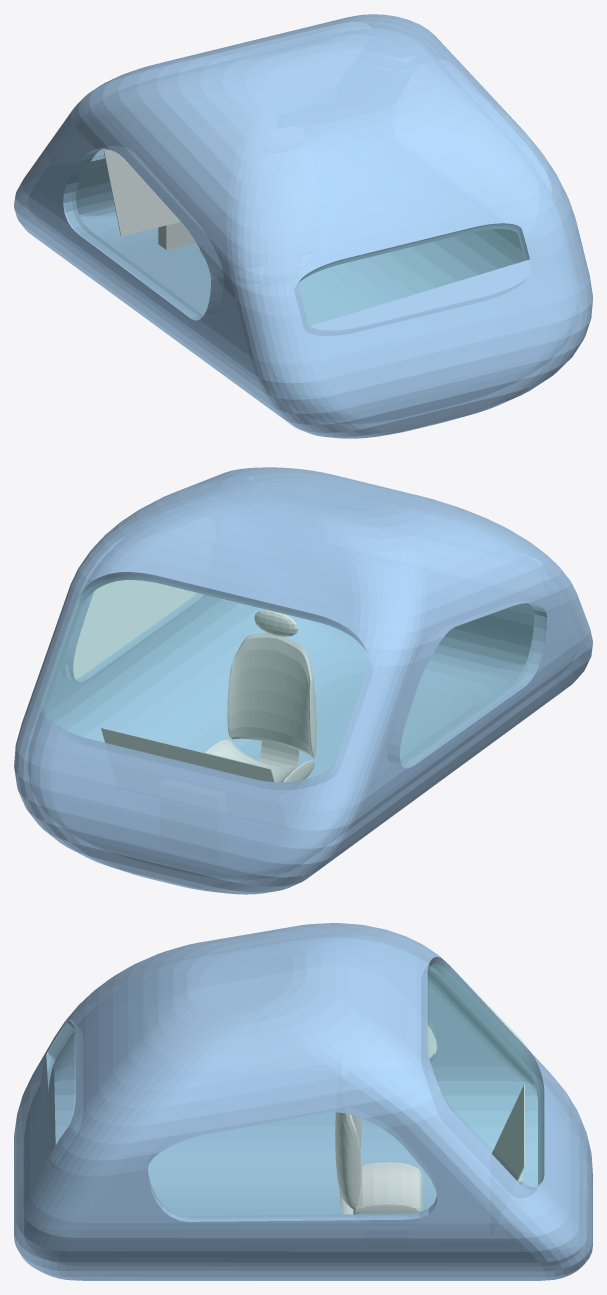
File: капсула7.fbx
The picture shows the model from 3 angles, top to bottom: view 1: azimuth 30°, elevation 25°; view 2: azimuth 150°, elevation 25°; view 3: azimuth 270°, elevation 25°; orthographic projection. The views are drawn at different scales.
Parts seen in each view (by area): view 1: Circle, Cube.004, Cube.007, Cube.003, Cube.002; view 2: Circle, Cube.006, Cube.004, Circle.002, Cube.005, Cube.003, Circle.001, Cube.001, Plane; view 3: Circle, Cube.005, Cube.006, Circle.001, Cube.007, Circle.002, Cube.003.
Boxes of the visible parts, box(x1,y1,x2,y2) form: Circle: box(14, 14, 592, 438); Cube.004: box(65, 149, 210, 319); Cube.007: box(298, 224, 528, 325); Cube.003: box(103, 149, 180, 236); Cube.002: box(158, 222, 195, 249); Circle: box(14, 467, 592, 894); Cube.006: box(40, 576, 368, 781); Cube.004: box(400, 603, 544, 767); Circle.002: box(227, 633, 316, 758); Cube.005: box(73, 580, 195, 678); Cube.003: box(101, 727, 274, 781); Circle.001: box(206, 739, 314, 782); Cube.001: box(254, 610, 297, 636); Plane: box(259, 741, 298, 767); Circle: box(14, 923, 592, 1280); Cube.005: box(148, 1112, 436, 1218); Cube.006: box(428, 961, 542, 1188); Circle.001: box(353, 1162, 422, 1214); Cube.007: box(47, 1021, 75, 1150); Circle.002: box(335, 1112, 361, 1208); Cube.003: box(492, 1085, 524, 1181).
Bounding box in the file's own units: 400 × 315 × 601.
